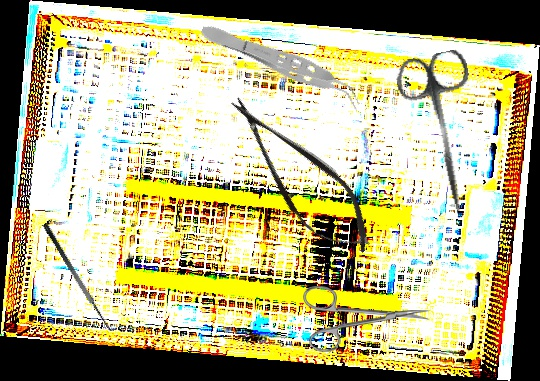Iris Scissors: (392, 47, 497, 219), (302, 283, 431, 353)
Micro Scissor: (210, 79, 389, 272)
Spatula Surgical: (41, 217, 120, 336)
Tissue Forceps: (196, 17, 368, 111)
